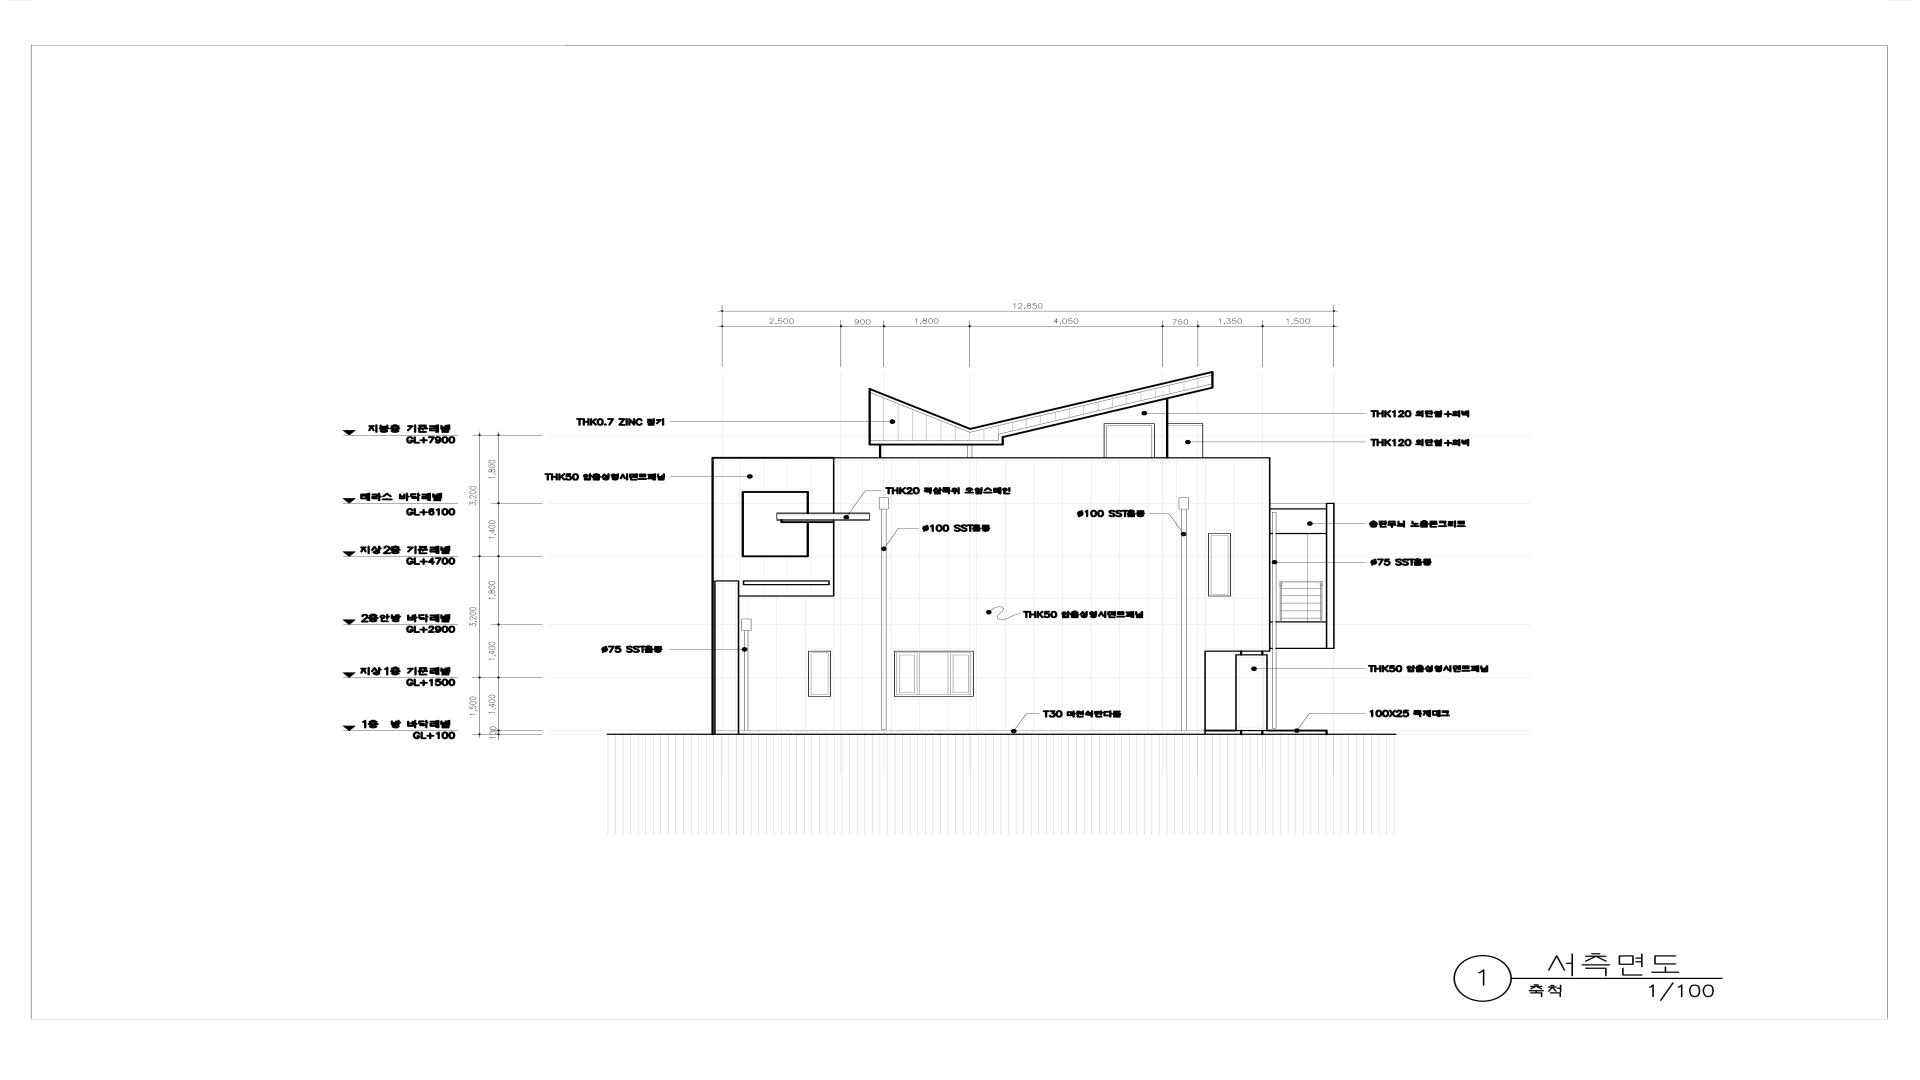wall: (712, 371, 1270, 735)
window: (741, 491, 808, 558), (894, 650, 973, 696), (1104, 423, 1154, 458), (1208, 533, 1232, 596), (808, 650, 831, 696)
